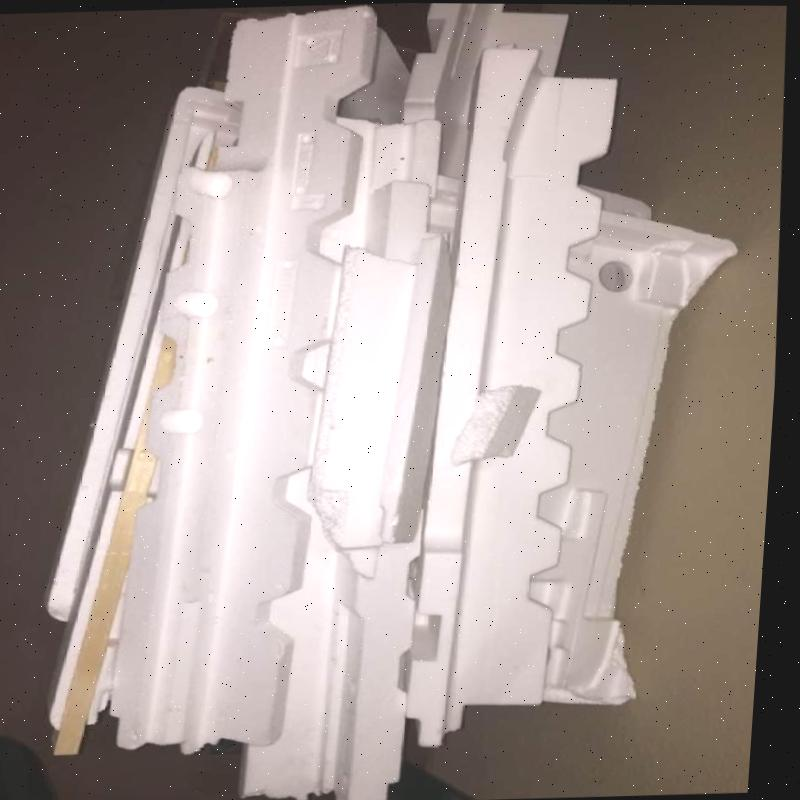styrofoam containers: (110, 8, 378, 756), (406, 48, 618, 751), (306, 180, 450, 550), (450, 386, 542, 467)
